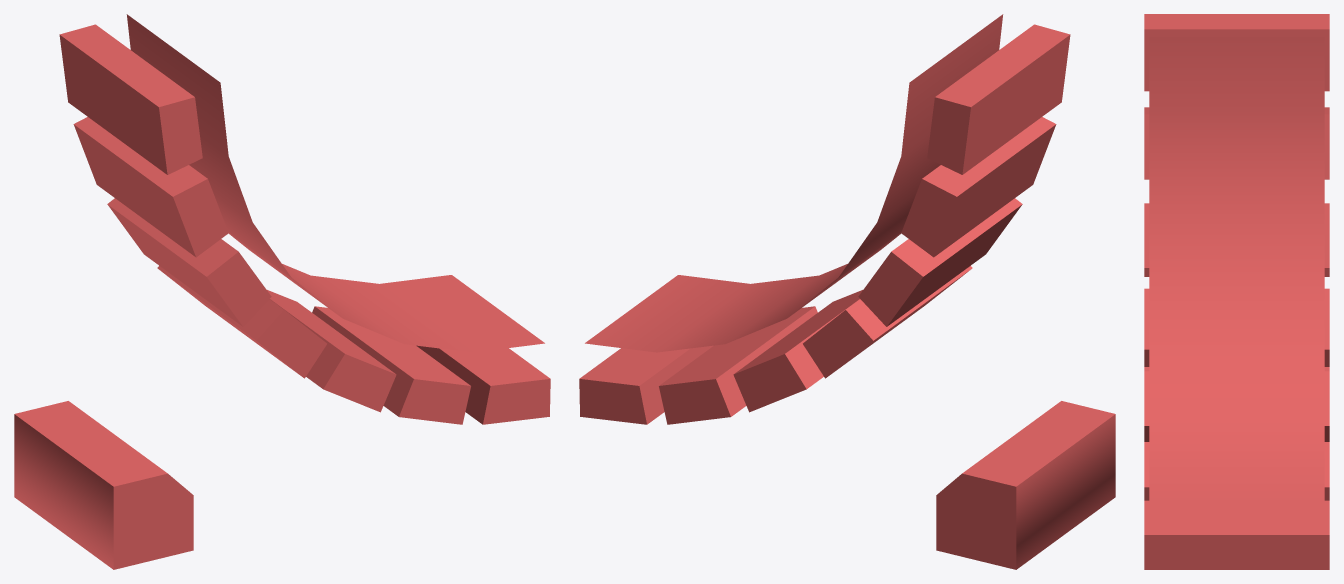
File: Slope1Color_New.fbx
3 views of the same model, side by side, from view 1: azimuth 30°, elevation 25°; view 2: azimuth 150°, elevation 25°; view 3: azimuth 270°, elevation 25° (orthographic). The views are drawn at different scales.
Visible parts, largest first — view 1: polySurface487; view 2: polySurface487; view 3: polySurface487.
Boxes of the visible parts, x1,y1,x2,y2 form: polySurface487: [14, 14, 550, 569]; polySurface487: [579, 14, 1115, 569]; polySurface487: [1144, 14, 1329, 569].
Bounding box in the file's own units: 2.59 × 2.59 × 1.02.
